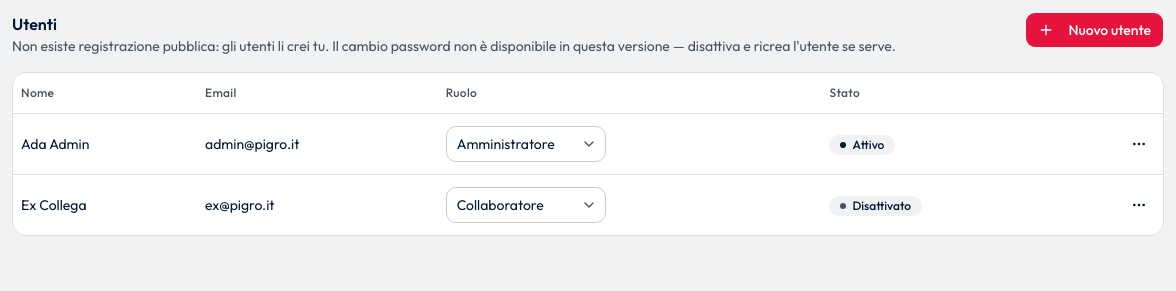
Test: UsersPanel › lists users with their role and status
The image size is (1176, 291).
Expected: the text "Ada Admin" is shown, [13,113,197,174]
Expected: the text "Amministratore" is shown, [457,134,555,154]
Click the button named "Azioni per Ex Collega". click: (1139, 204)
box: [1123,188,1155,220]
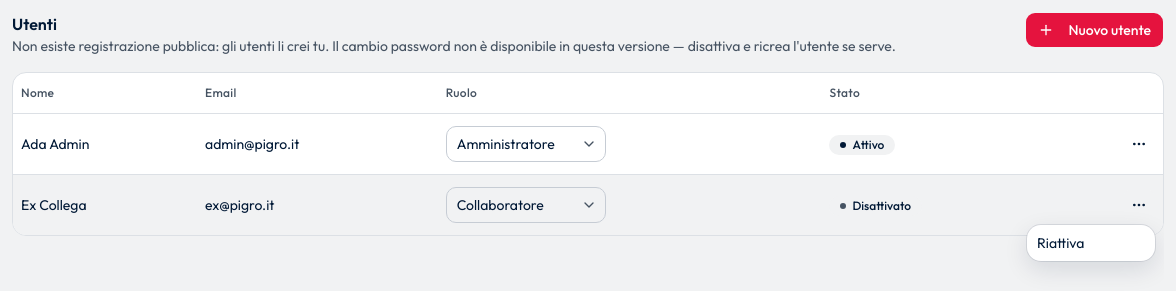
Expected: the menu item "Riattiva" is shown, [1037,234,1084,252]
